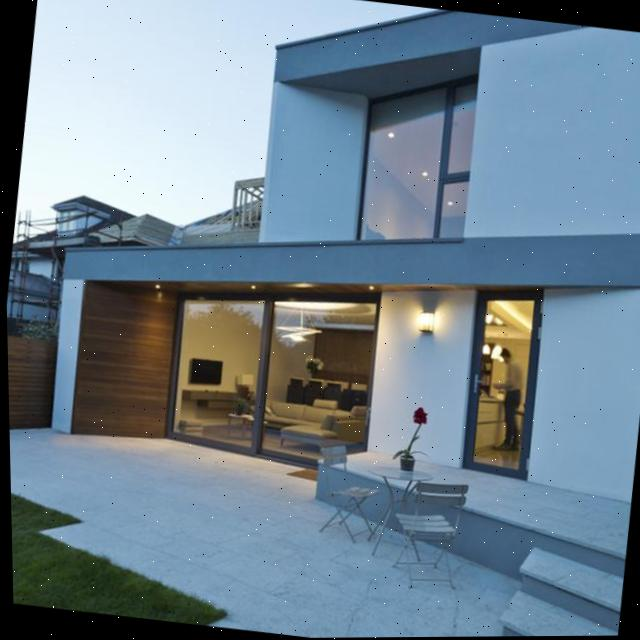building: (40, 0, 640, 516)
